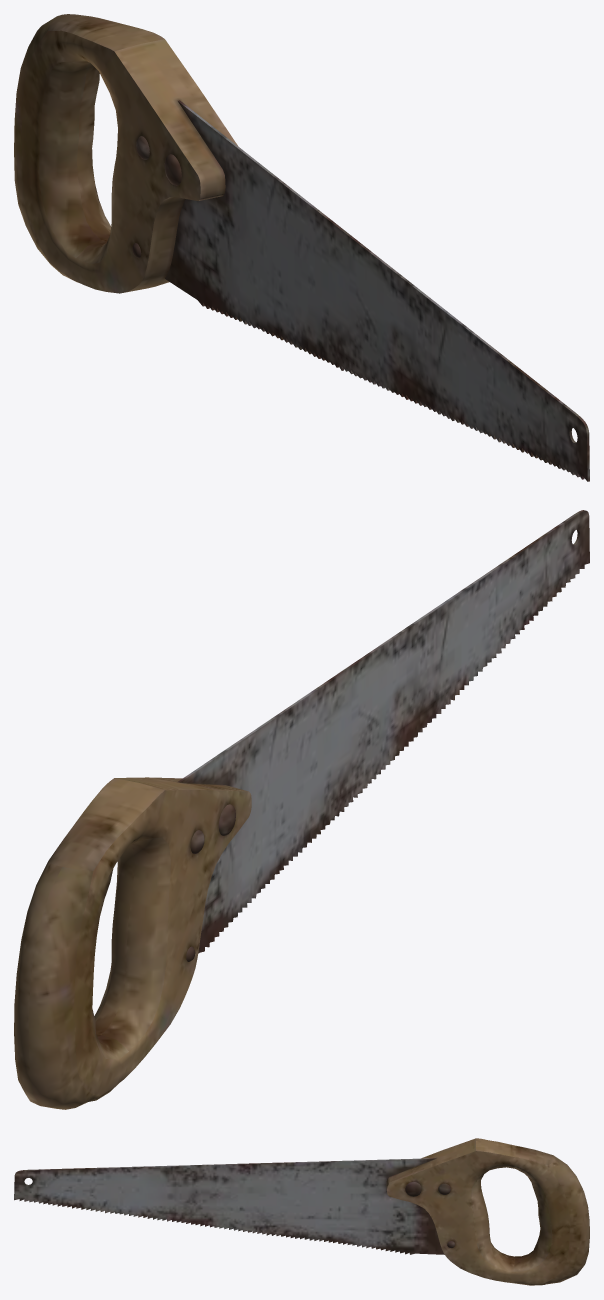
The model's file is handsaw.glb.
3 views of the same model, one above another, from view 1: azimuth 30°, elevation 25°; view 2: azimuth 150°, elevation 25°; view 3: azimuth 270°, elevation 25° (orthographic). The views are drawn at different scales.
Parts seen in each view (by area): view 1: handsaw_wood; view 2: handsaw_wood; view 3: handsaw_wood.
Boxes of the visible parts, <box> form: handsaw_wood: <box>14,14,589,481</box>; handsaw_wood: <box>14,510,589,1109</box>; handsaw_wood: <box>14,1138,589,1285</box>.
Size of the model in its own units: 0.0408 by 0.1665 by 0.633.
1 material, 1 textured.
